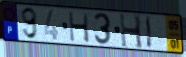3: (93, 12, 113, 47)
4: (43, 8, 60, 42)
9: (20, 7, 40, 41)
H: (118, 12, 145, 51), (67, 11, 91, 44)
I: (145, 15, 154, 50)
